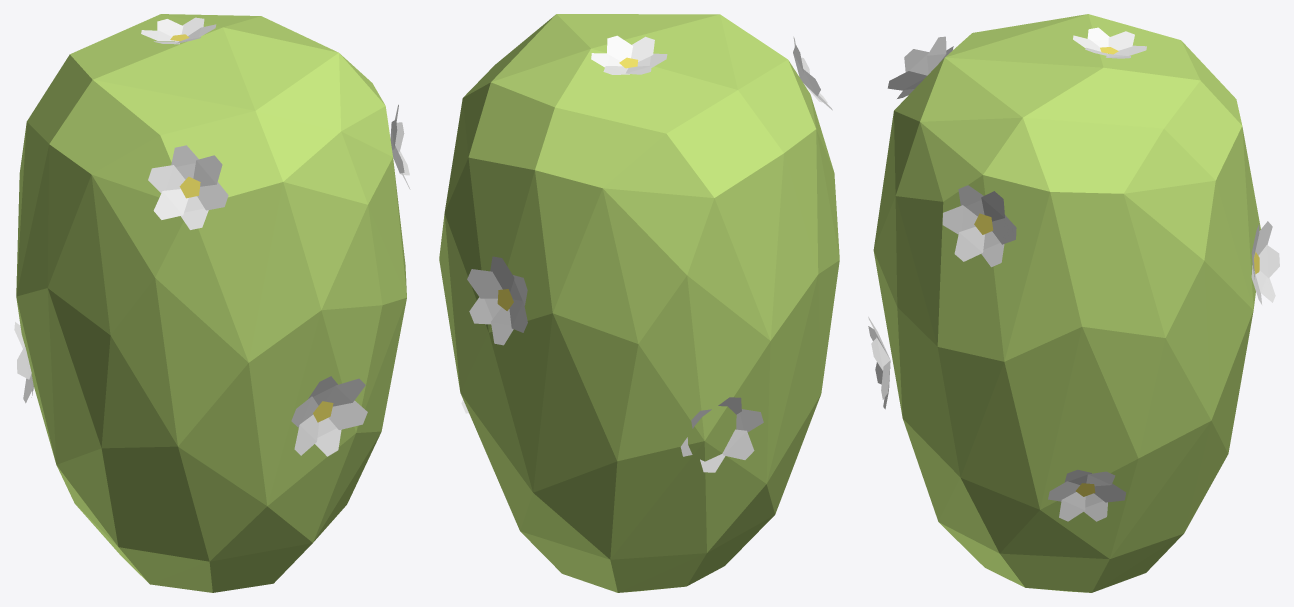
Rendered from FlowerBush_a_m_02.fbx.
3 views of the same model, side by side, from view 1: azimuth 30°, elevation 25°; view 2: azimuth 150°, elevation 25°; view 3: azimuth 270°, elevation 25° (orthographic).
Parts seen in each view (by area): view 1: FlowerBush_a_m_02_LOD0; view 2: FlowerBush_a_m_02_LOD0; view 3: FlowerBush_a_m_02_LOD0.
Part boxes in pixels (x1,y1,x2,y2): FlowerBush_a_m_02_LOD0: (14,14,410,592); FlowerBush_a_m_02_LOD0: (439,14,839,592); FlowerBush_a_m_02_LOD0: (868,14,1279,592).
Size of what is drawn, in the model's own units: 147 by 228 by 155.
